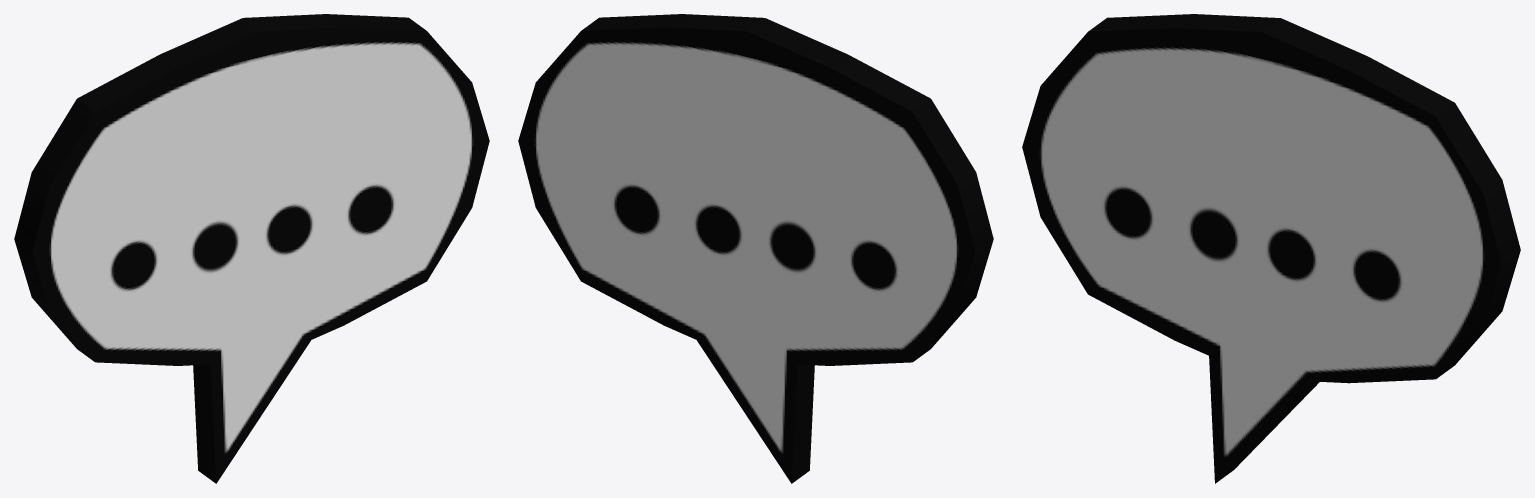
File: Silence.FBX
3 renders of one model, left to right at view 1: azimuth 30°, elevation 25°; view 2: azimuth 150°, elevation 25°; view 3: azimuth 330°, elevation 25°, orthographic. The views are drawn at different scales.
Visible parts, largest first — view 1: Box01; view 2: Box01; view 3: Box01.
Boxes of the visible parts, x1,y1,x2,y2 form: Box01: (14,14,489,483); Box01: (518,14,993,483); Box01: (1022,14,1520,483).
Size of the model in its own units: 30.76 by 2.12 by 28.4.
Materials: 1 (1 with a texture image).
